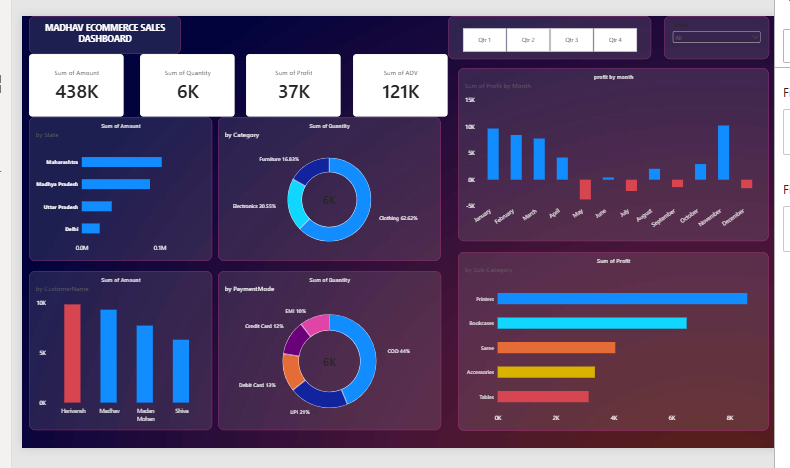

What the dashboard file says about the page in this screenshot:
{"tool":"powerbi","page":{"name":"Page 1MMADHAV  E_COMMERCE Sales Dashboard","canvas":[1920,1080],"ordinal":0},"visuals":[{"type":"textbox","box":[17.5,0,380,95],"z":0},{"type":"columnChart","title":"profit by month","fields":{"Category":["Orders.Order Date.Variation.Date Hierarchy.Month"],"Y":["Sum(Details.Profit)"]},"box":[1090,130,776.7,433.3],"z":1000},{"type":"barChart","fields":{"Category":["Details.Sub-Category"],"Y":["Sum(Details.Profit)"]},"box":[1090,590,776.7,446.7],"z":2000},{"type":"donutChart","fields":{"Category":["Details.Category"],"Y":["Sum(Details.Quantity)"]},"box":[490,252.5,556.7,360],"z":3000},{"type":"donutChart","fields":{"Category":["Details.PaymentMode"],"Y":["Sum(Details.Quantity)"]},"box":[490,636.7,557.5,397.5],"z":4000},{"type":"cardVisual","fields":{"Data":["Sum(Details.Amount)"]},"box":[17.5,95,237.5,157.5],"z":5000},{"type":"cardVisual","fields":{"Data":["Sum(Details.Quantity)"]},"box":[295,95,237.5,157.5],"z":6000},{"type":"cardVisual","fields":{"Data":["Sum(Details.Profit)"]},"box":[560,95,237.5,157.5],"z":7000},{"type":"cardVisual","fields":{"Data":["Sum(Details.ADV)"]},"box":[827.5,95,237.5,157.5],"z":8000},{"type":"barChart","fields":{"Category":["Orders.State"],"Y":["Sum(Details.Amount)"]},"box":[17.5,252.5,457.5,360],"z":9000},{"type":"columnChart","fields":{"Category":["Orders.CustomerName"],"Y":["Sum(Details.Amount)"]},"box":[18,637,458,398],"z":10000},{"type":"slicer","fields":{"Values":["Orders.State"]},"box":[1605,0,262.5,107.5],"z":11000},{"type":"slicer","fields":{"Values":["Orders.Order Date.Variation.Date Hierarchy.Quarter"]},"box":[1065,0,507.5,107.5],"z":12000}]}

Visuals, with their boxes on the page's 1920x1080 design canvas (x1, y1, x2, y2). These are canvas units, not pixel positions in the 790x468 screenshot, which may show the page scaled, cropped or inside an application window:
textbox: rect(18, 0, 398, 95)
"profit by month" columnChart: rect(1090, 130, 1867, 563)
barChart - Details.Sub-Category x Sum(Details.Profit): rect(1090, 590, 1867, 1037)
donutChart - Details.Category x Sum(Details.Quantity): rect(490, 252, 1047, 612)
donutChart - Details.PaymentMode x Sum(Details.Quantity): rect(490, 637, 1048, 1034)
cardVisual - Sum(Details.Amount): rect(18, 95, 255, 252)
cardVisual - Sum(Details.Quantity): rect(295, 95, 532, 252)
cardVisual - Sum(Details.Profit): rect(560, 95, 798, 252)
cardVisual - Sum(Details.ADV): rect(828, 95, 1065, 252)
barChart - Orders.State x Sum(Details.Amount): rect(18, 252, 475, 612)
columnChart - Orders.CustomerName x Sum(Details.Amount): rect(18, 637, 476, 1035)
slicer - Orders.State: rect(1605, 0, 1868, 108)
slicer - Orders.Order Date.Variation.Date Hierarchy.Quarter: rect(1065, 0, 1572, 108)
